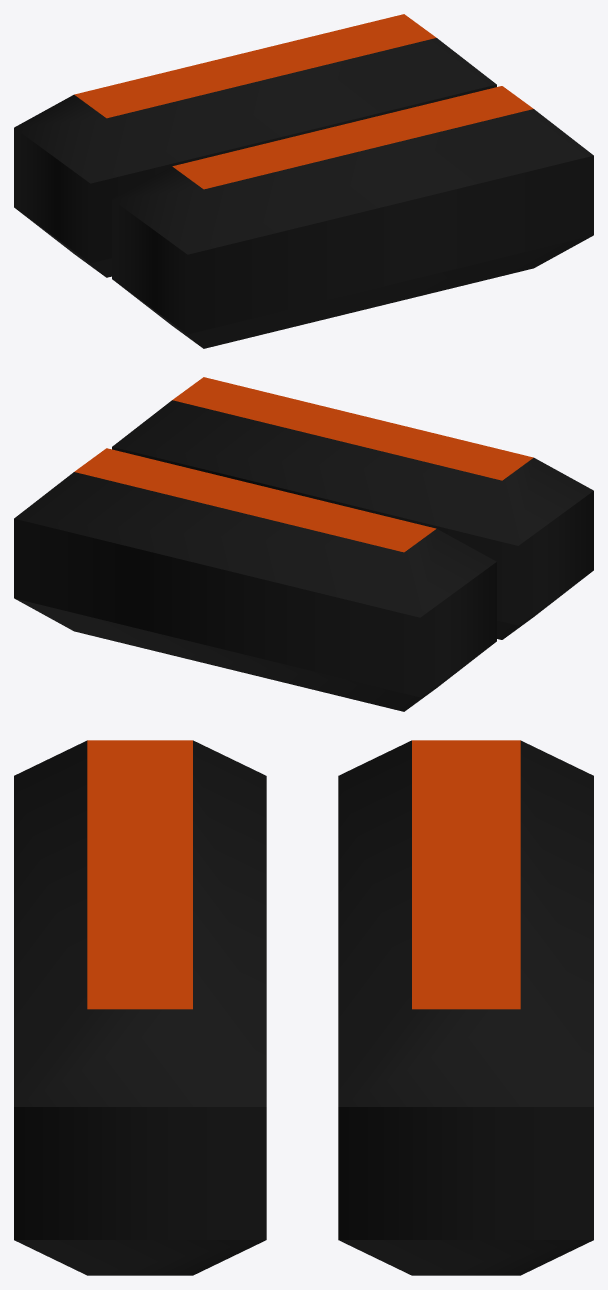
Rendered from Egal.fbx.
3 renders of one model, top to bottom at view 1: azimuth 30°, elevation 25°; view 2: azimuth 150°, elevation 25°; view 3: azimuth 270°, elevation 25°, orthographic. The views are drawn at different scales.
Parts seen in each view (by area): view 1: Text; view 2: Text; view 3: Text.
Boxes of the visible parts, x1,y1,x2,y2 form: Text: (14, 14, 593, 348); Text: (14, 377, 593, 711); Text: (14, 740, 593, 1275).
Size of the model in its own units: 0.4267 by 0.16 by 0.3158.
